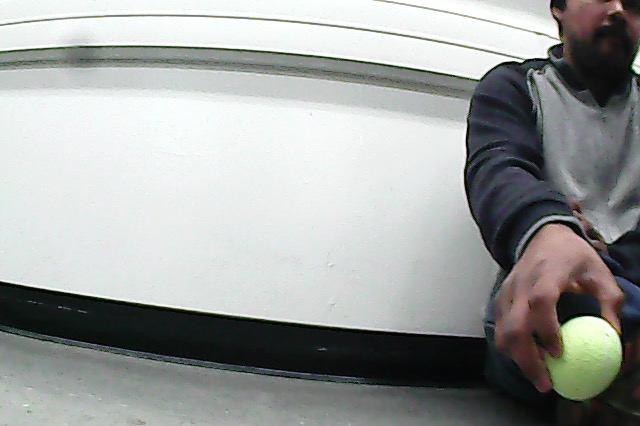ball: (544, 313, 625, 402)
